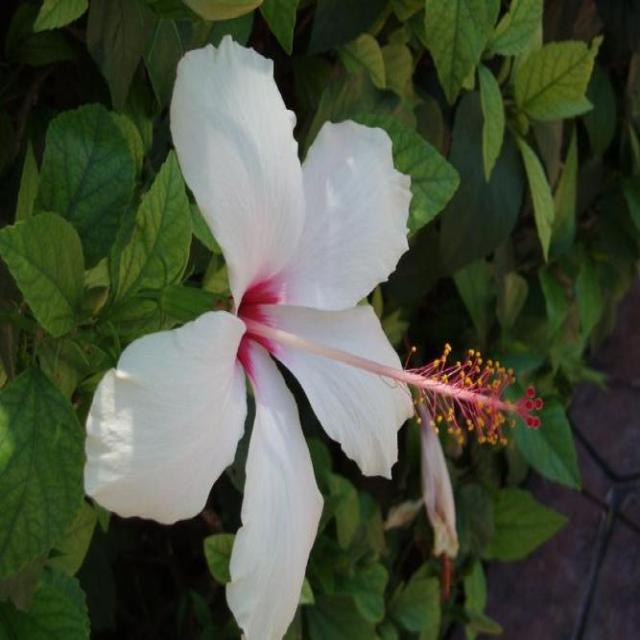hibiscus: (100, 17, 542, 640)
